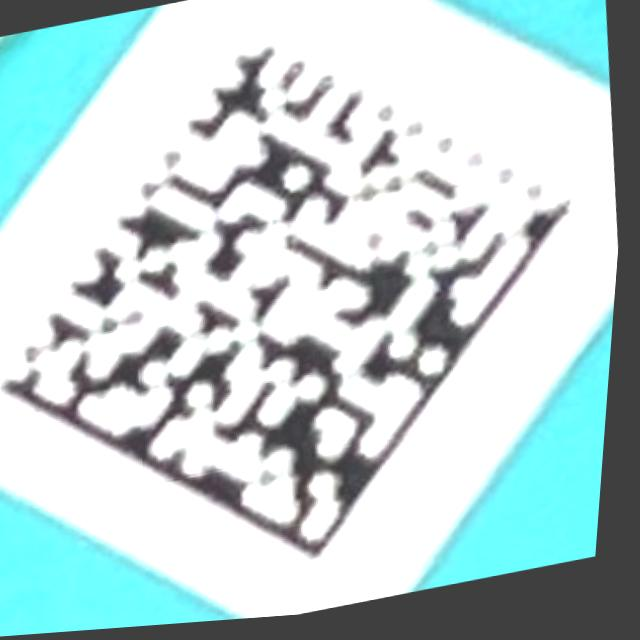QR_CODE: (0, 0, 630, 622)
